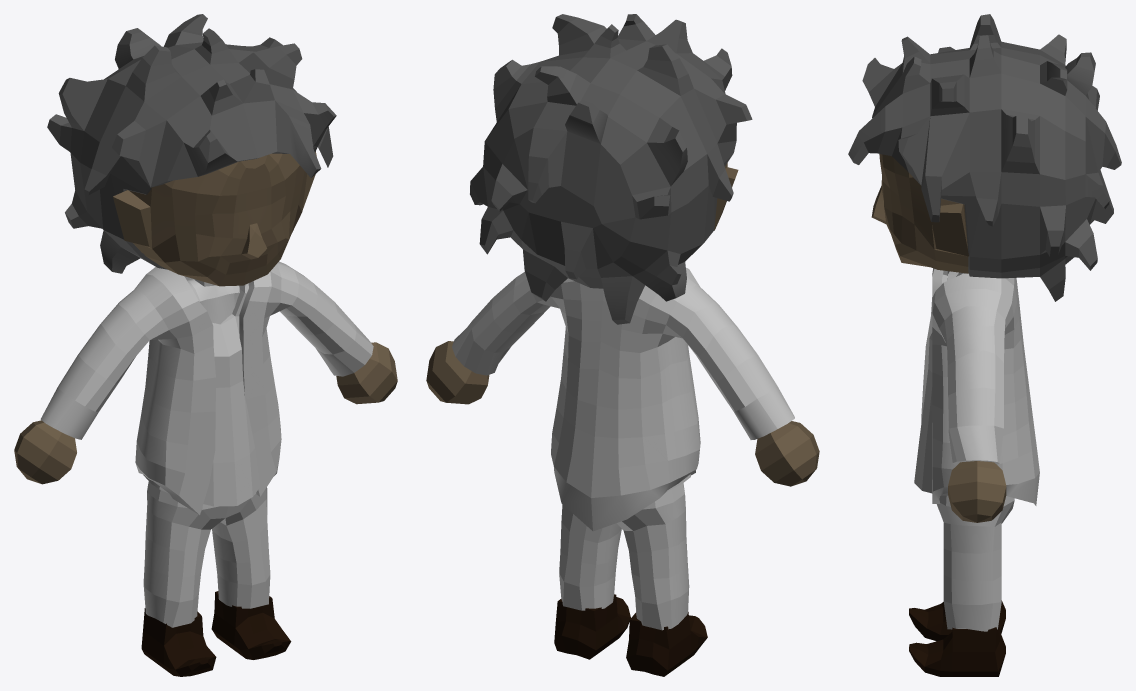
The model's file is Darry.fbx.
3 renders of one model, left to right at view 1: azimuth 30°, elevation 25°; view 2: azimuth 150°, elevation 25°; view 3: azimuth 270°, elevation 25°, orthographic. The views are drawn at different scales.
Visible parts, largest first — view 1: Darry; view 2: Darry; view 3: Darry.
Part boxes in pixels (bbox=[...]): Darry: bbox=[14, 14, 397, 676]; Darry: bbox=[426, 14, 819, 676]; Darry: bbox=[848, 14, 1121, 676].
Bounding box in the file's own units: 3.5 × 5.46 × 2.18.
